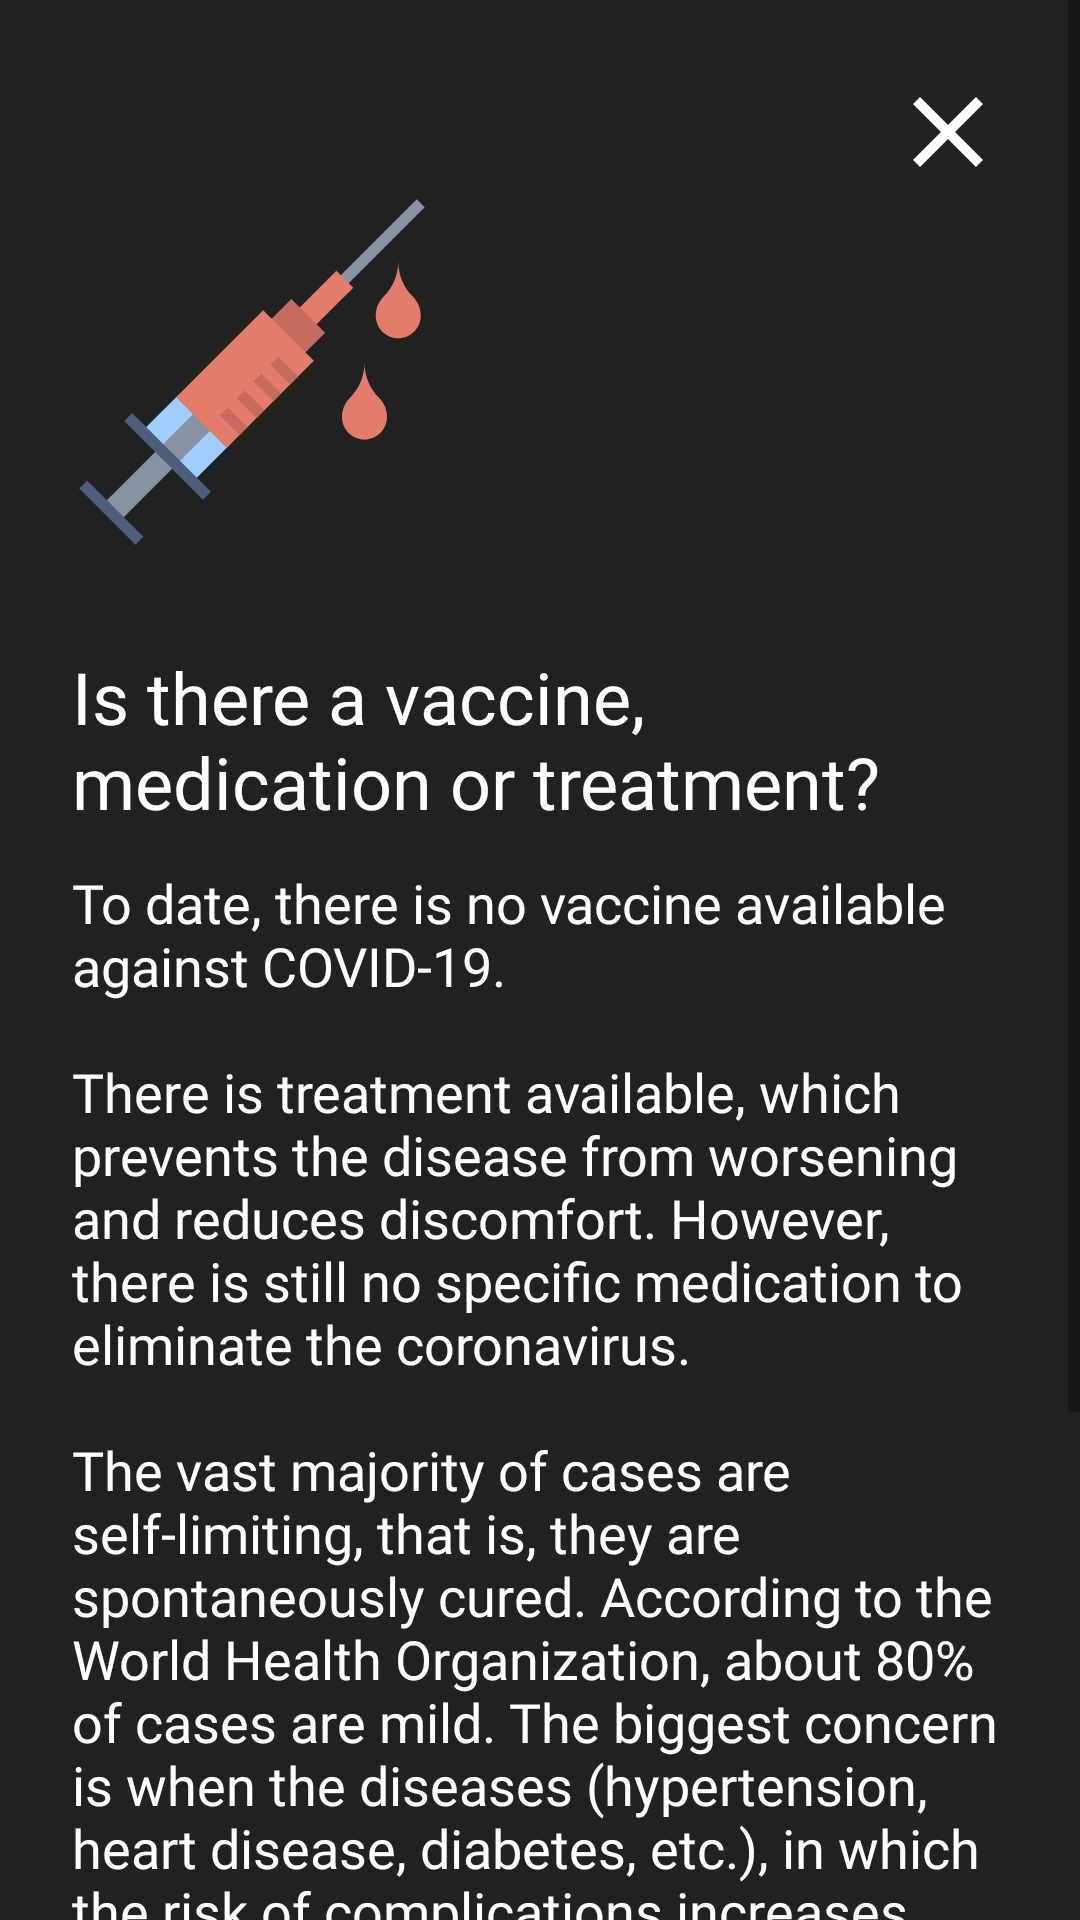

Icon bounding boxes for this 1080 x 1920 phone screenshot, format region(x1, y1, x2, y2):
close: region(913, 97, 983, 167)
